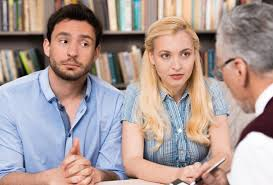person: (29, 10, 109, 136), (138, 12, 215, 115), (210, 4, 265, 125)
